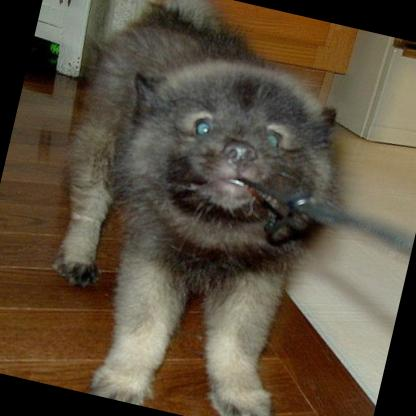keeshond: (5, 0, 375, 416)
